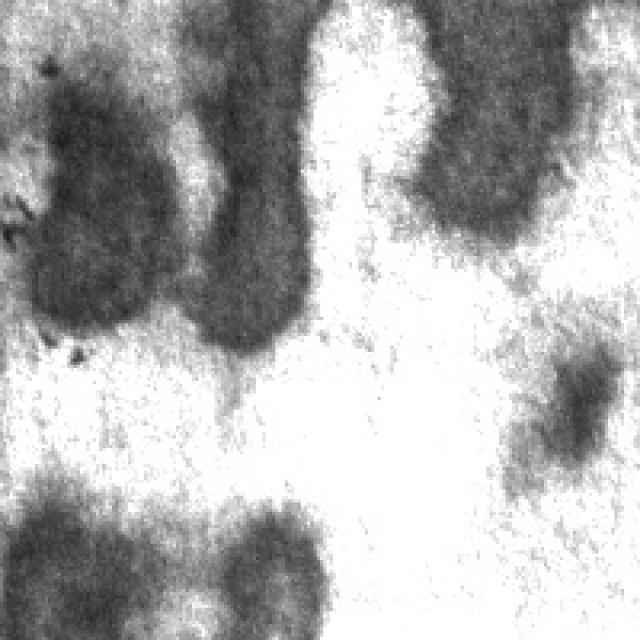patches: (189, 0, 336, 349), (19, 64, 182, 330), (410, 0, 582, 250), (3, 474, 157, 636), (221, 499, 339, 637), (541, 326, 621, 474)
